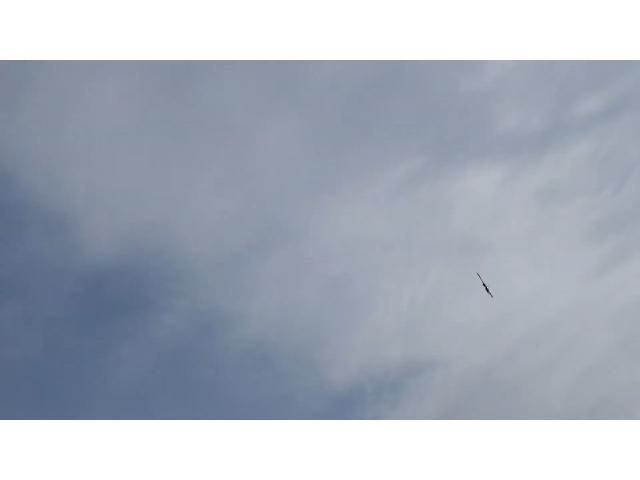Anti-Drone: (475, 273, 493, 297)
